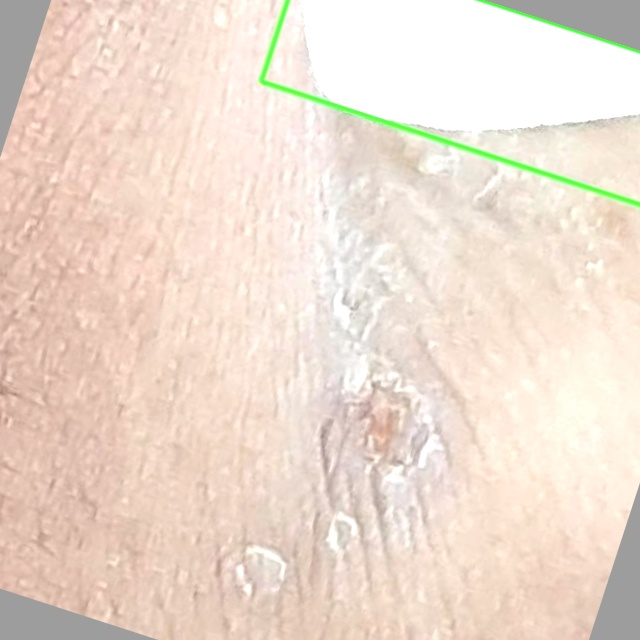Scabies: (261, 0, 639, 204)
